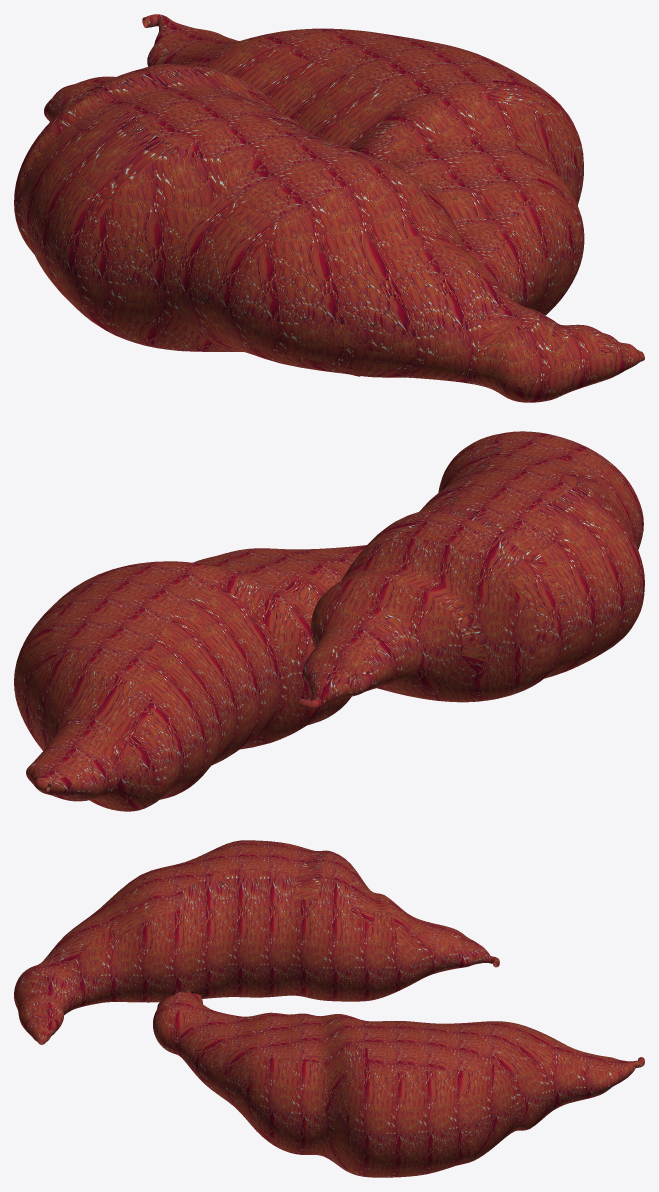
File: cave5.FBX
3 views of the same model, one above another, from view 1: azimuth 30°, elevation 25°; view 2: azimuth 150°, elevation 25°; view 3: azimuth 270°, elevation 25° (orthographic). The views are drawn at different scales.
Visible parts, largest first — view 1: Cylinder002; view 2: Cylinder002; view 3: Cylinder002.
Boxes of the visible parts, <box> form: Cylinder002: <box>14,14,644,402</box>; Cylinder002: <box>14,431,644,811</box>; Cylinder002: <box>14,840,644,1177</box>.
Size of the model in its own units: 45951 by 24776 by 66433.
